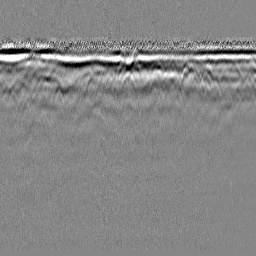cavity: (121, 69, 138, 92)
